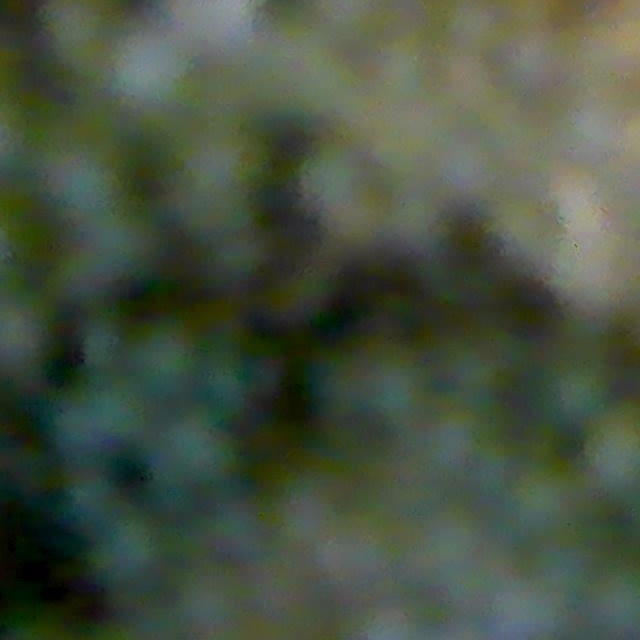SeaGrape: (104, 29, 195, 120), (151, 410, 236, 490), (58, 376, 145, 454), (90, 513, 165, 589), (127, 321, 203, 396), (582, 405, 640, 495), (539, 354, 611, 425), (588, 560, 640, 639), (0, 296, 50, 376)
